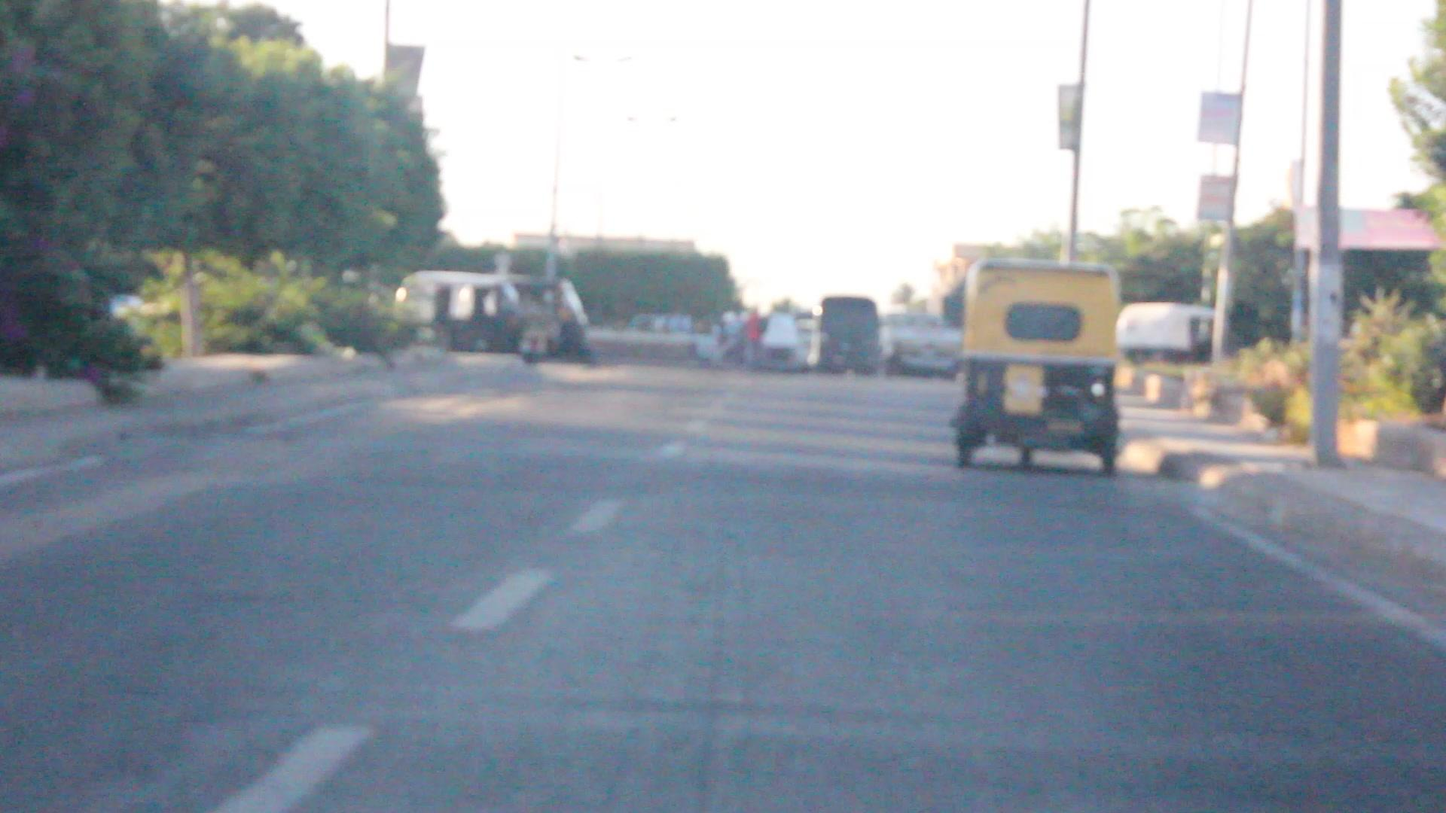Bump: (113, 431, 1214, 512)
